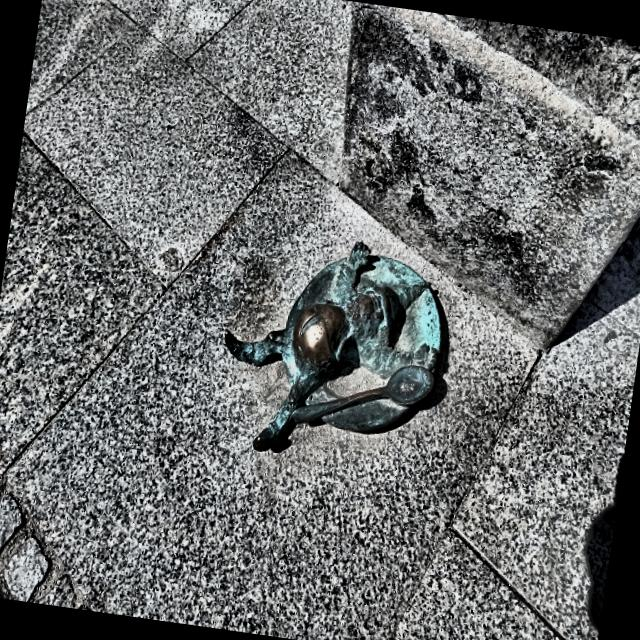Obiezysmak: (224, 242, 442, 451)
